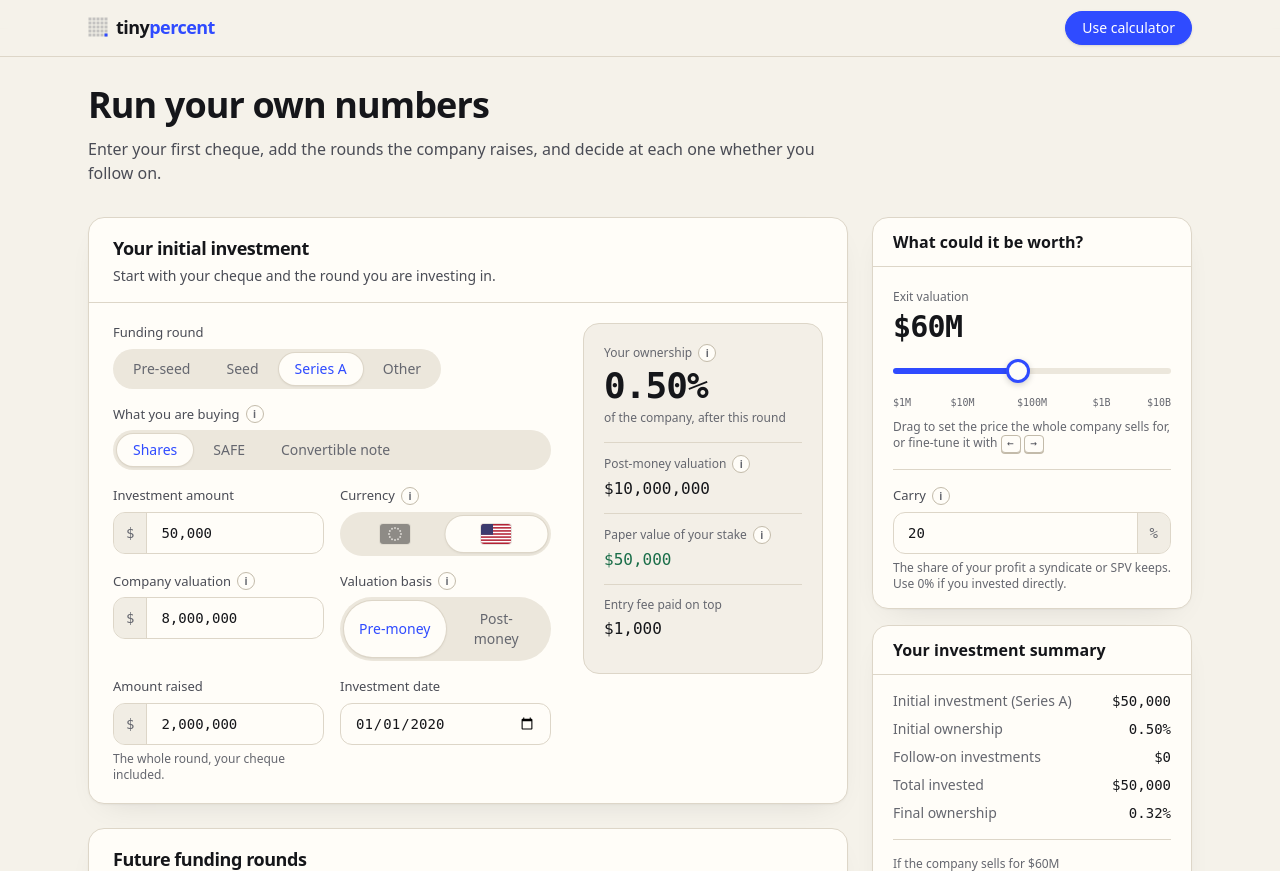
the fields follow the instrument › asks for interest as well for a convertible note
(page scrolled)
Click the radio button labelled "Convertible note" at (336,450), box 265,434 -> 406,466
(page scrolled)
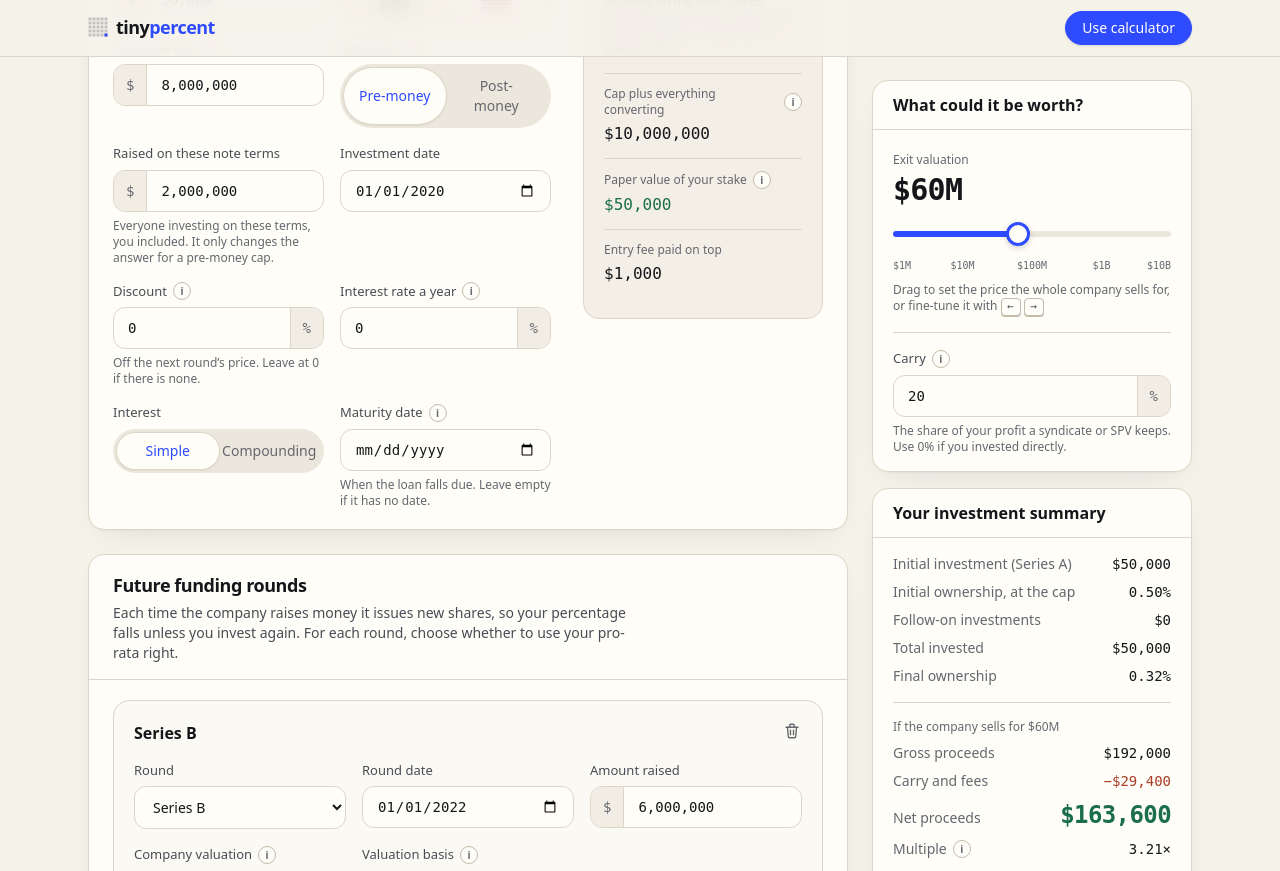
Now the field labelled "Interest rate a year" is shown, box 341,308 -> 517,348
Now the element named "Interest" is shown, box 113,428 -> 324,472
